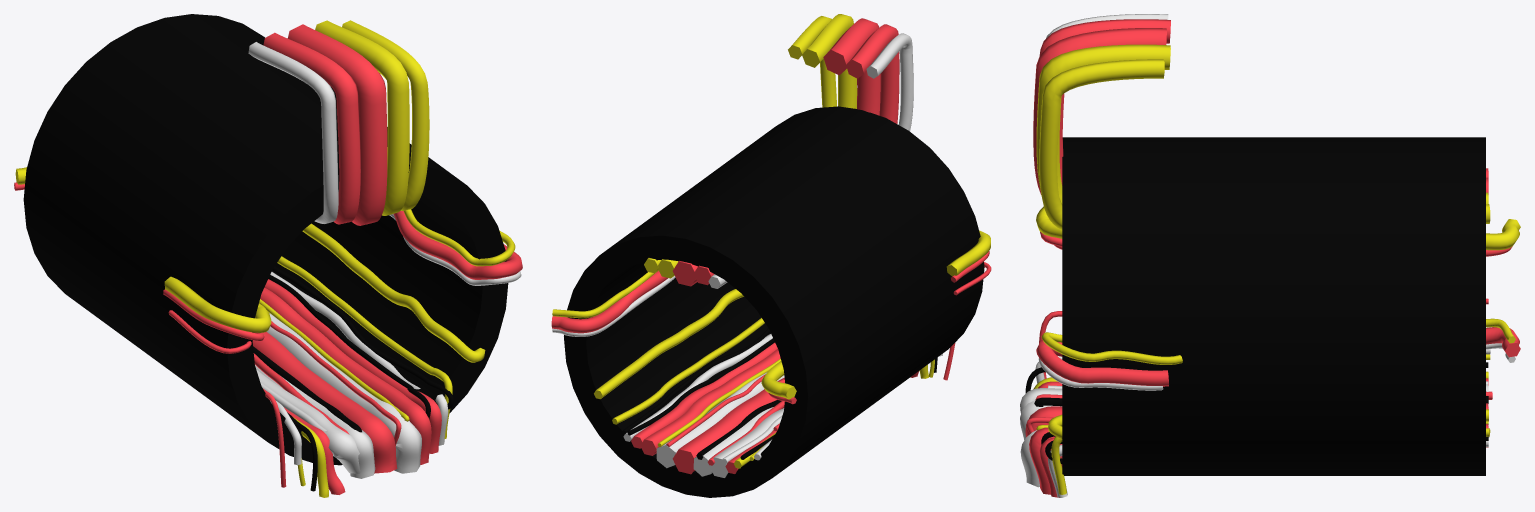
File: CablePortal.fbx
The picture shows the model from 3 angles, left to right: view 1: azimuth 30°, elevation 25°; view 2: azimuth 150°, elevation 25°; view 3: azimuth 270°, elevation 25°; orthographic projection. The views are drawn at different scales.
Visible parts, largest first — view 1: Cylinder, BézierCurve.001, BézierCurve.008, BézierCurve.009, BézierCurve.010, BézierCurve.003, BézierCurve.012, BézierCurve.002, BézierCurve.013, BézierCurve.027, BézierCurve.016, BézierCurve (+18 smaller); view 2: Cylinder, BézierCurve.001, BézierCurve.009, BézierCurve.008, BézierCurve.003, BézierCurve.010, BézierCurve.027, BézierCurve.013, BézierCurve, BézierCurve.002, BézierCurve.016, BézierCurve.004 (+12 smaller); view 3: Cylinder, BézierCurve.002, BézierCurve.008, BézierCurve.001, BézierCurve, BézierCurve.006, BézierCurve.009, BézierCurve.004, BézierCurve.005, BézierCurve.013, BézierCurve.003, BézierCurve.032.
Part boxes in pixels (box(x1,y1,x2,y2)): Cylinder: box(23, 14, 508, 465); BézierCurve.001: box(287, 24, 387, 225); BézierCurve.008: box(315, 20, 409, 215); BézierCurve.009: box(263, 32, 360, 224); BézierCurve.010: box(252, 332, 397, 473); BézierCurve.003: box(248, 42, 338, 223); BézierCurve.012: box(266, 313, 421, 473); BézierCurve.002: box(342, 20, 429, 210); BézierCurve.013: box(260, 287, 431, 464); BézierCurve.027: box(302, 223, 485, 362); BézierCurve.016: box(264, 279, 441, 453); BézierCurve: box(393, 211, 522, 279); Cylinder: box(564, 106, 984, 497); BézierCurve.001: box(672, 18, 880, 286); BézierCurve.009: box(693, 24, 899, 285); BézierCurve.008: box(658, 14, 857, 278); BézierCurve.003: box(708, 33, 913, 288); BézierCurve.010: box(672, 377, 784, 474); BézierCurve.027: box(594, 289, 743, 399); BézierCurve.013: box(640, 349, 780, 455); BézierCurve: box(551, 270, 668, 333); BézierCurve.002: box(644, 16, 836, 273); BézierCurve.016: box(631, 342, 777, 448); BézierCurve.004: box(761, 230, 990, 399); Cylinder: box(1062, 137, 1485, 475); BézierCurve.002: box(1039, 59, 1490, 229); BézierCurve.008: box(1036, 44, 1488, 204); BézierCurve.001: box(1033, 28, 1488, 194); BézierCurve: box(1036, 327, 1520, 386); BézierCurve.006: box(1041, 318, 1515, 364); BézierCurve.009: box(1039, 19, 1488, 180); BézierCurve.004: box(1036, 206, 1520, 250); BézierCurve.005: box(1038, 343, 1515, 390); BézierCurve.013: box(1029, 424, 1488, 494); BézierCurve.003: box(1046, 14, 1168, 38); BézierCurve.032: box(1051, 428, 1490, 494).
Bounding box in the file's own units: 13.64 × 16.95 × 17.73.
